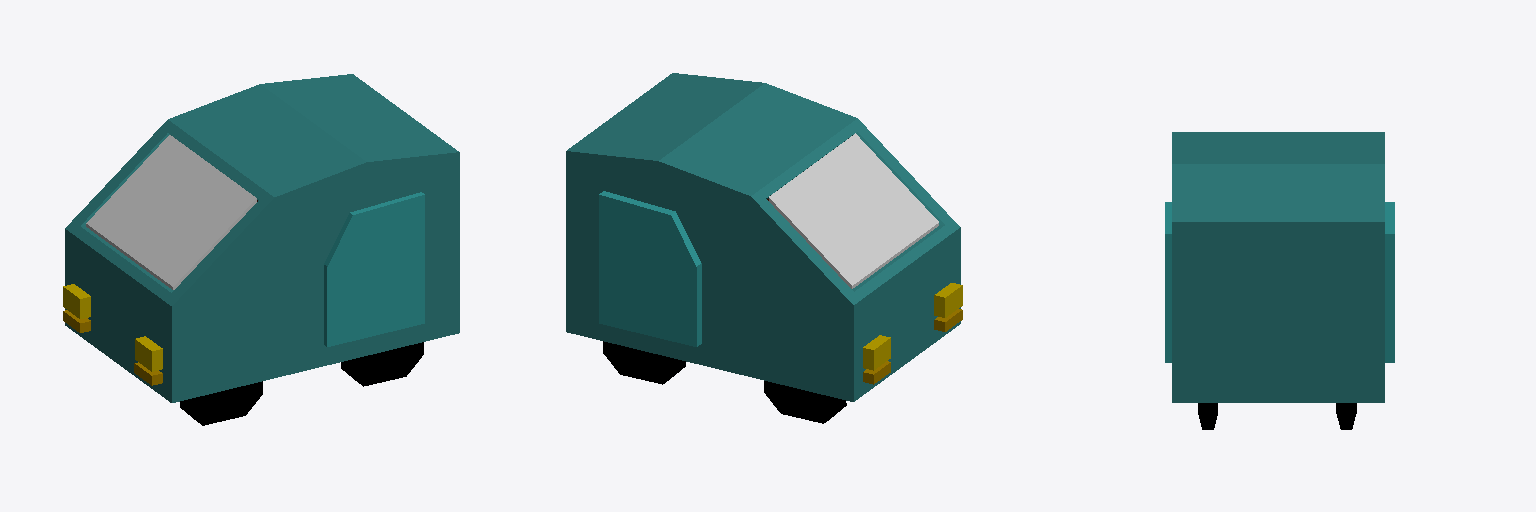
Rendered from Car2.obj.
3 renders of one model, left to right at view 1: azimuth 30°, elevation 25°; view 2: azimuth 150°, elevation 25°; view 3: azimuth 270°, elevation 25°, orthographic.
Parts seen in each view (by area): view 1: Car_Cube, Window_Cube.003, RightDoor_Cube.011, RightBackWhell_Cube.014, RightFrontWheel_Cube.012, RightFlash_Cube.004, LeftFlash_Cube.002; view 2: Car_Cube, Window_Cube.003, LeftDoor_Cube.010, LeftBackWheel_Cube.015, LeftFrontWheel_Cube.013, RightFlash_Cube.004, LeftFlash_Cube.002; view 3: Car_Cube, LeftDoor_Cube.010, RightDoor_Cube.011.
Boxes of the visible parts, x1=… form: Car_Cube: x1=65, y1=74, x2=459, y2=402; Window_Cube.003: x1=86, y1=135, x2=256, y2=289; RightDoor_Cube.011: x1=324, y1=192, x2=424, y2=346; RightBackWhell_Cube.014: x1=341, y1=342, x2=423, y2=386; RightFrontWheel_Cube.012: x1=180, y1=381, x2=262, y2=425; RightFlash_Cube.004: x1=135, y1=336, x2=162, y2=371; LeftFlash_Cube.002: x1=63, y1=284, x2=90, y2=318; Car_Cube: x1=566, y1=73, x2=960, y2=401; Window_Cube.003: x1=769, y1=133, x2=938, y2=288; LeftDoor_Cube.010: x1=599, y1=191, x2=701, y2=346; LeftBackWheel_Cube.015: x1=603, y1=341, x2=685, y2=384; LeftFrontWheel_Cube.013: x1=764, y1=381, x2=846, y2=423; RightFlash_Cube.004: x1=934, y1=283, x2=962, y2=317; LeftFlash_Cube.002: x1=863, y1=335, x2=890, y2=370; Car_Cube: x1=1172, y1=132, x2=1384, y2=402; LeftDoor_Cube.010: x1=1385, y1=202, x2=1394, y2=362; RightDoor_Cube.011: x1=1165, y1=202, x2=1171, y2=362.
Bounding box in the file's own units: 3.43 × 2.62 × 2.29.